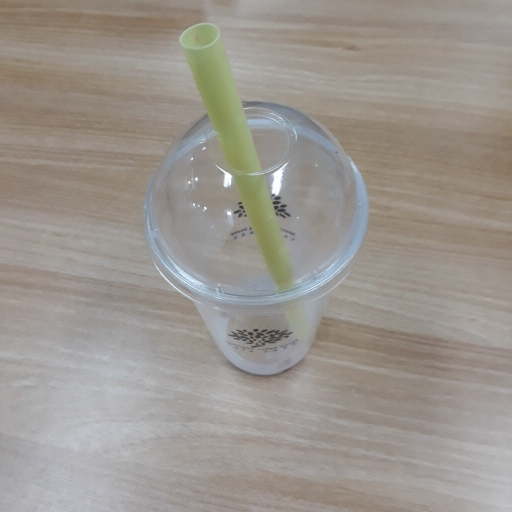Plastic_2: (135, 21, 373, 384)
